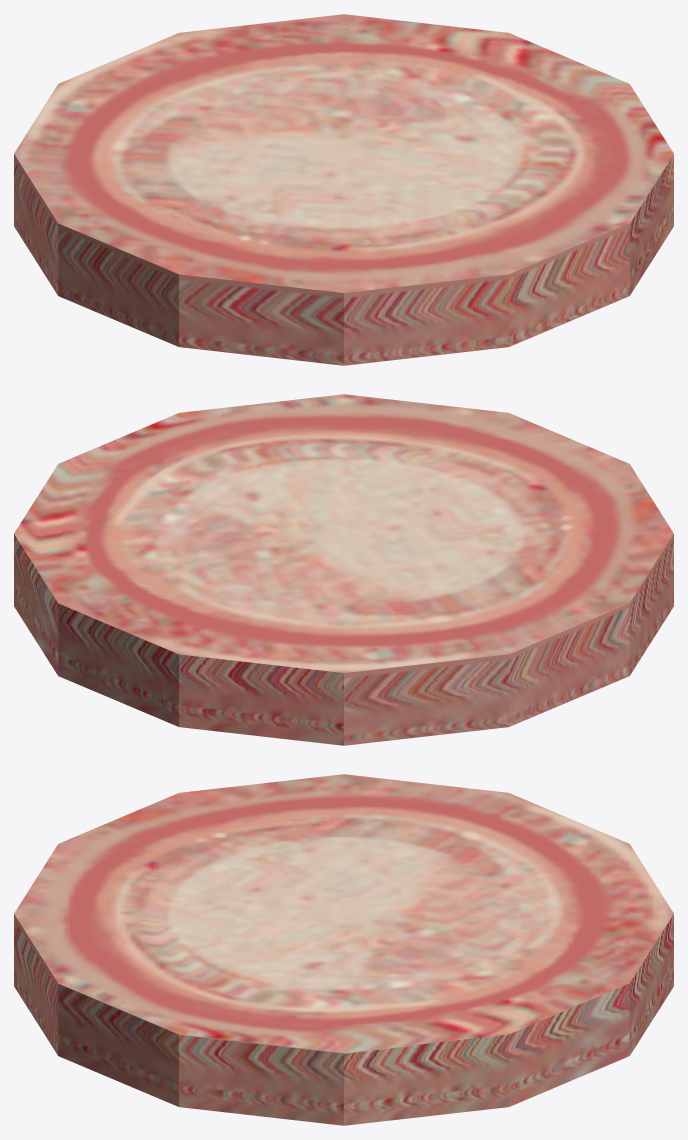
Rendered from SM_Round_Pill.fbx.
The picture shows the model from 3 angles, top to bottom: view 1: azimuth 30°, elevation 25°; view 2: azimuth 150°, elevation 25°; view 3: azimuth 270°, elevation 25°; orthographic projection.
Visible parts, largest first — view 1: SM_Round_Pill; view 2: SM_Round_Pill; view 3: SM_Round_Pill.
Part boxes in pixels (left/top/right/bottom): SM_Round_Pill: left=14, top=14, right=673, bottom=365; SM_Round_Pill: left=14, top=394, right=673, bottom=745; SM_Round_Pill: left=14, top=774, right=673, bottom=1125.
Bounding box in the file's own units: 0.1282 × 0.0156 × 0.1282.
